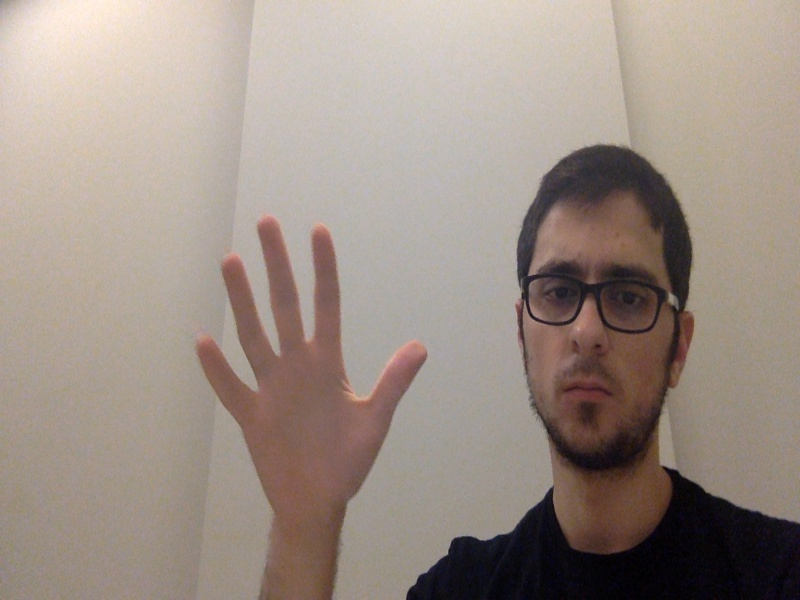5-hand: (191, 214, 433, 527)
